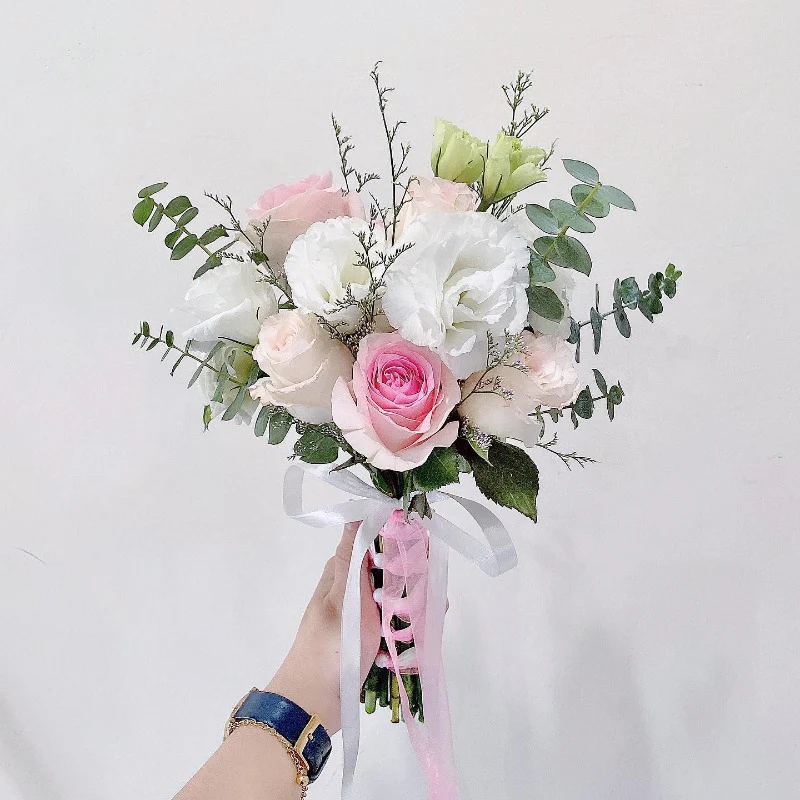Pink: (334, 330, 461, 470), (242, 170, 364, 292), (254, 315, 348, 428), (383, 176, 474, 253), (507, 342, 580, 409)
White: (381, 214, 529, 385), (282, 215, 381, 331), (170, 264, 279, 347)
Yellow: (477, 131, 547, 211), (433, 113, 484, 186)
